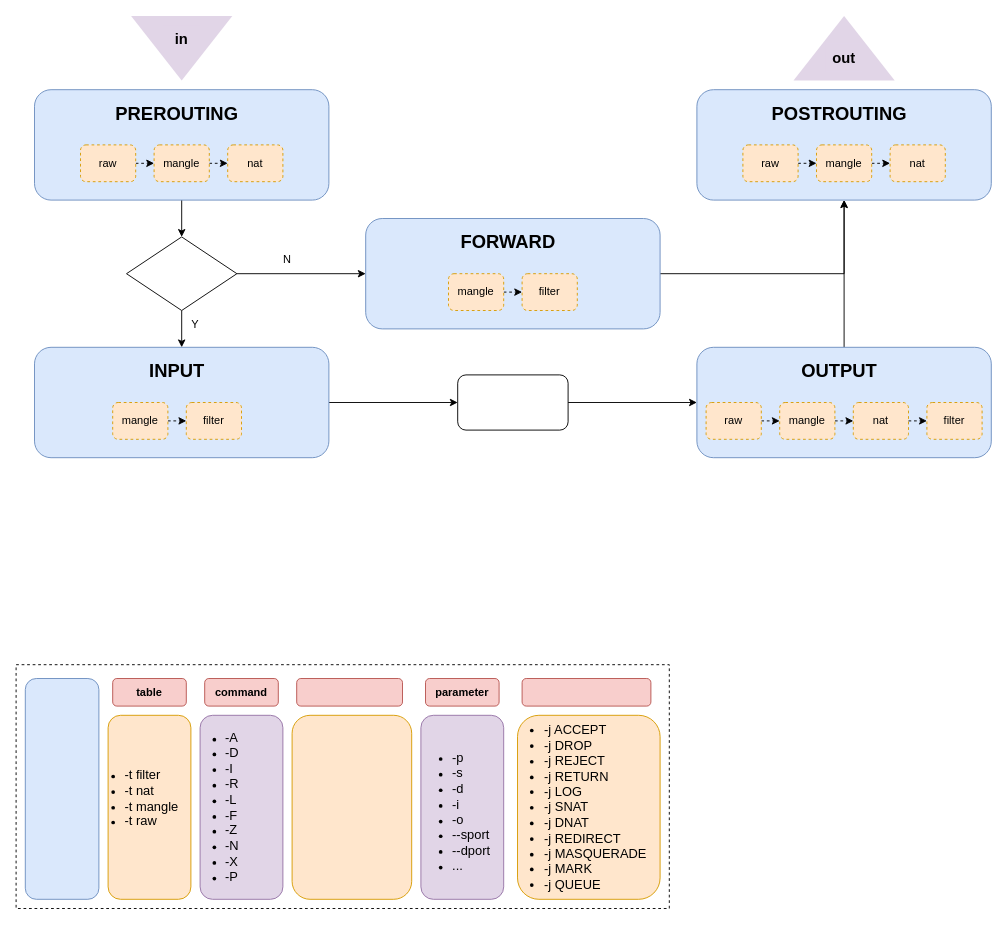
The diagram is 1007 pixels wide and 925 high, and some of its shapes have lost their labels. Here are the shapes that lost their labels. From the top down, the centre of each, then its label:
the point at 181,273: 目的地 是否本机
the point at 512,402: LocalHost
the point at 349,692: chain
the point at 586,692: target
the point at 61,788: iptables
the point at 351,806: PREROUTING INPUT FORWARD OUTPUT POSTROUTING
